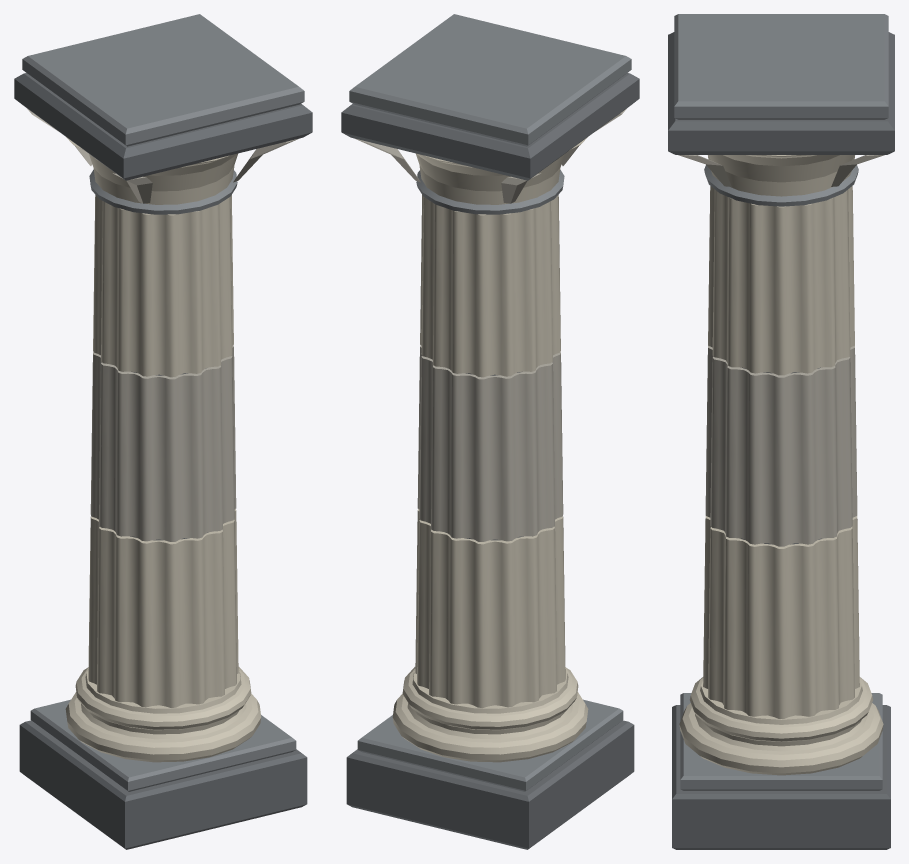
File: SM_LPD_Struct_PillarOrnate_01.fbx
3 views of the same model, side by side, from view 1: azimuth 30°, elevation 25°; view 2: azimuth 150°, elevation 25°; view 3: azimuth 270°, elevation 25° (orthographic). The views are drawn at different scales.
Visible parts, largest first — view 1: SM_LPD_Struct_PillarOrnate_01; view 2: SM_LPD_Struct_PillarOrnate_01; view 3: SM_LPD_Struct_PillarOrnate_01.
Part boxes in pixels (x1,y1,x2,y2): SM_LPD_Struct_PillarOrnate_01: (14,14,312,849); SM_LPD_Struct_PillarOrnate_01: (341,14,639,849); SM_LPD_Struct_PillarOrnate_01: (668,14,894,849).
Bounding box in the file's own units: 1.1 × 4 × 1.1.
